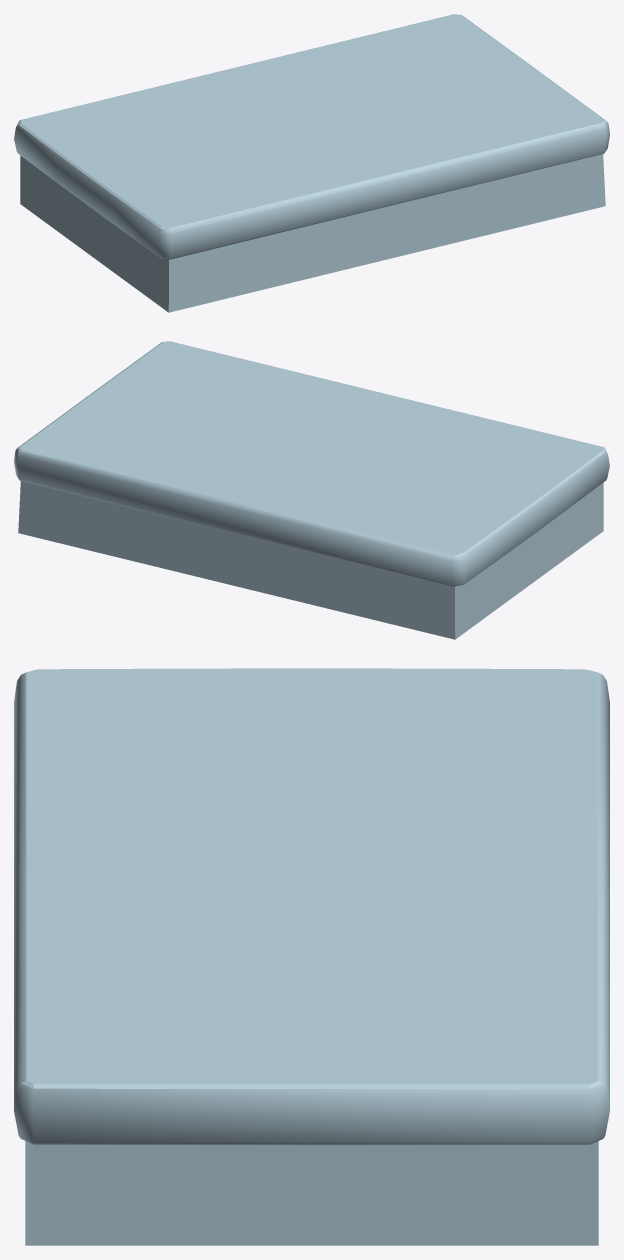
File: Prop_bed1.FBX
The picture shows the model from 3 angles, top to bottom: view 1: azimuth 30°, elevation 25°; view 2: azimuth 150°, elevation 25°; view 3: azimuth 270°, elevation 25°; orthographic projection. The views are drawn at different scales.
Parts seen in each view (by area): view 1: Box166; view 2: Box166; view 3: Box166.
Boxes of the visible parts, box(x1,y1,x2,y2) form: Box166: box(14, 14, 609, 312); Box166: box(14, 341, 609, 639); Box166: box(14, 668, 609, 1245).
Bounding box in the file's own units: 95.29 × 56.36 × 16.92.
